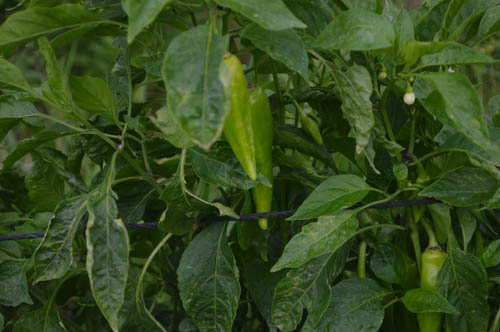ChiliPepper: (205, 55, 261, 181), (236, 80, 278, 230), (407, 238, 450, 332)
